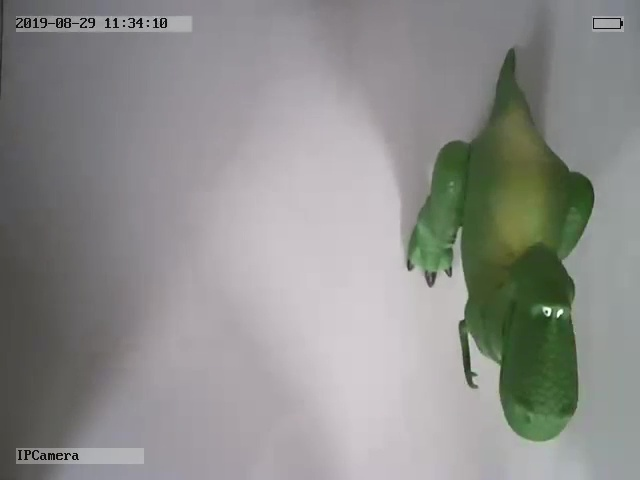rex: (405, 46, 595, 443)
